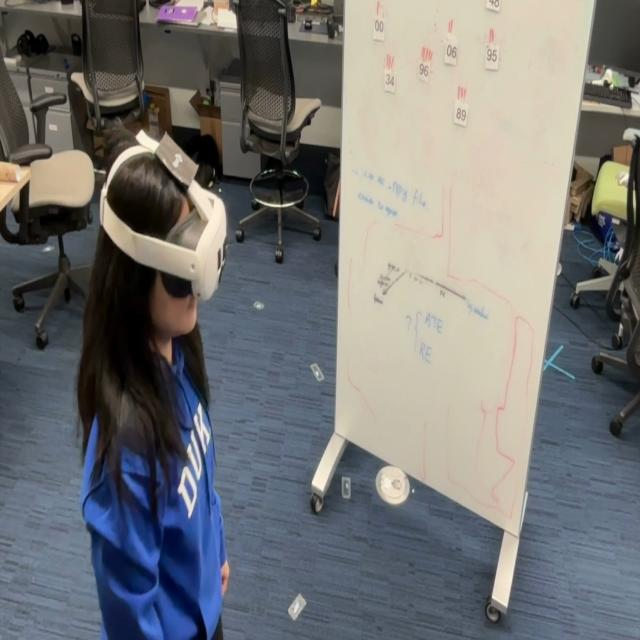Headset: (98, 132, 228, 304)
UnityLogo: (152, 136, 201, 186)
